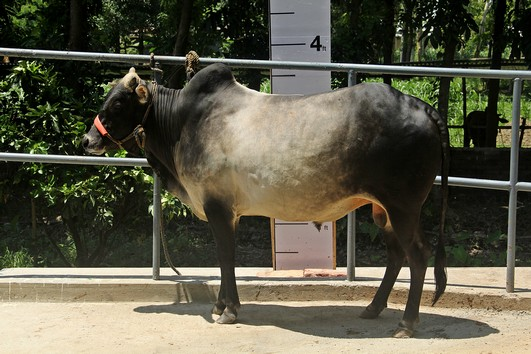cow: (78, 56, 455, 341)
